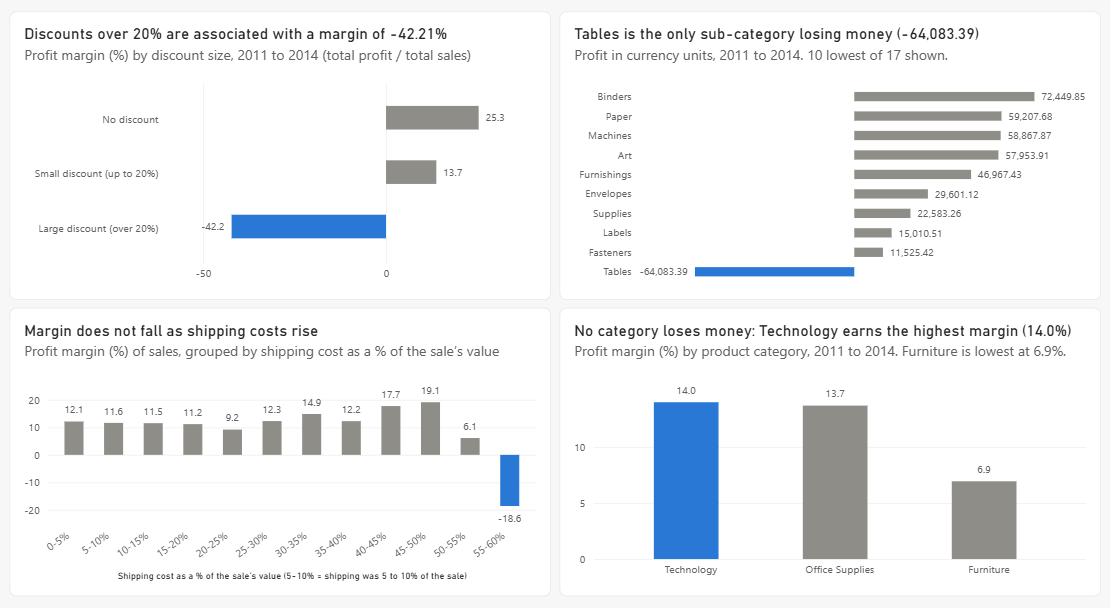

This screenshot's page, from the dashboard's own definition file:
{"tool":"powerbi","page":{"name":"Page 1","canvas":[1290,840],"ordinal":0},"visuals":[{"type":"clusteredBarChart","title":"Discounts over 20% are associated with a margin of -42.21%","fields":{"Category":["dash_discount_band.Discount band"],"Y":["Sum(dash_discount_band.margin_pct)"]},"box":[20,60,620,330],"z":0},{"type":"barChart","title":"Tables is the only sub-category losing money (-64,083.39)","fields":{"Category":["dash_sub_category.Sub.Category"],"Y":["Sum(dash_sub_category.profit)"]},"box":[650,60,620,330],"z":1000},{"type":"clusteredColumnChart","title":"Margin does not fall as shipping costs rise","fields":{"Category":["dash_shipping_share.Shipping.Cost / Sales bin"],"Y":["Sum(dash_shipping_share.margin_pct)"]},"box":[20,400,620,330],"z":2000},{"type":"clusteredColumnChart","title":"No category loses money: Technology earns the highest margin (14.0%)","fields":{"Category":["dash_category.Category"],"Y":["Sum(dash_category.margin_pct)"]},"box":[650,400,620,330],"z":2001}]}

Visuals, with their boxes on the page's 1290x840 design canvas (x1, y1, x2, y2). These are canvas units, not pixel positions in the 1110x608 screenshot, which may show the page scaled, cropped or inside an application window:
"Discounts over 20% are associated with a margin of -42.21%" clusteredBarChart: [left=20, top=60, right=640, bottom=390]
"Tables is the only sub-category losing money (-64,083.39)" barChart: [left=650, top=60, right=1270, bottom=390]
"Margin does not fall as shipping costs rise" clusteredColumnChart: [left=20, top=400, right=640, bottom=730]
"No category loses money: Technology earns the highest margin (14.0%)" clusteredColumnChart: [left=650, top=400, right=1270, bottom=730]
